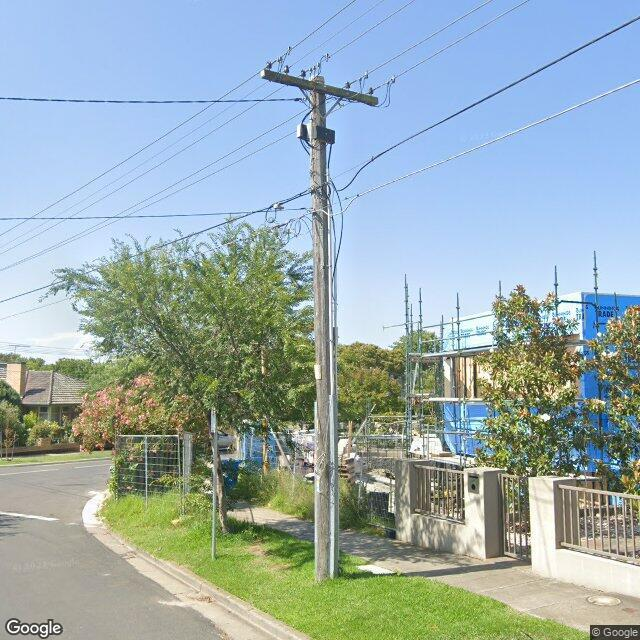crossarm: (261, 45, 395, 108)
timber-pole: (310, 76, 336, 578)
